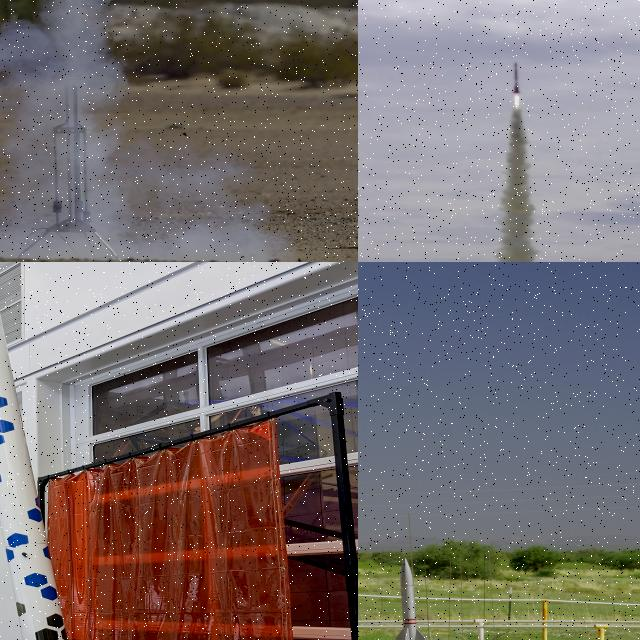Rocket: (390, 556, 429, 640), (512, 61, 521, 94)
